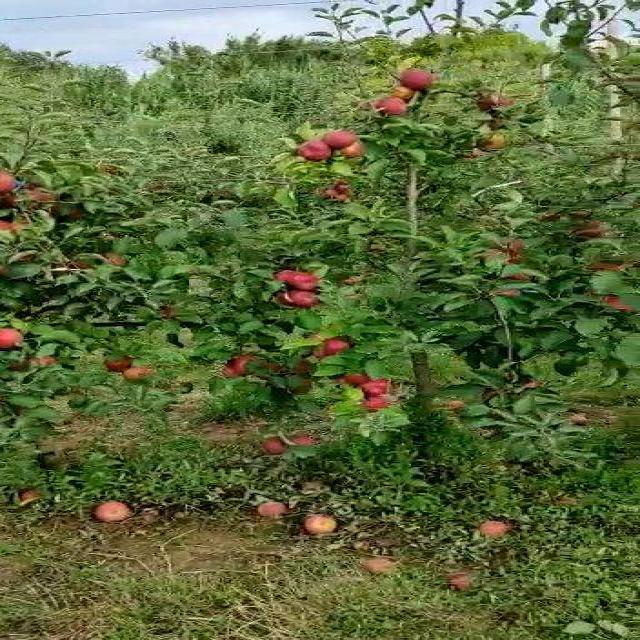Rotten Apple: (218, 355, 271, 379), (396, 64, 438, 92), (600, 290, 640, 318), (296, 140, 338, 162), (366, 388, 404, 412), (282, 288, 325, 309), (276, 270, 324, 288), (322, 335, 356, 358), (356, 379, 400, 395), (326, 126, 354, 150), (128, 361, 156, 384), (372, 98, 403, 116), (2, 329, 27, 348)
